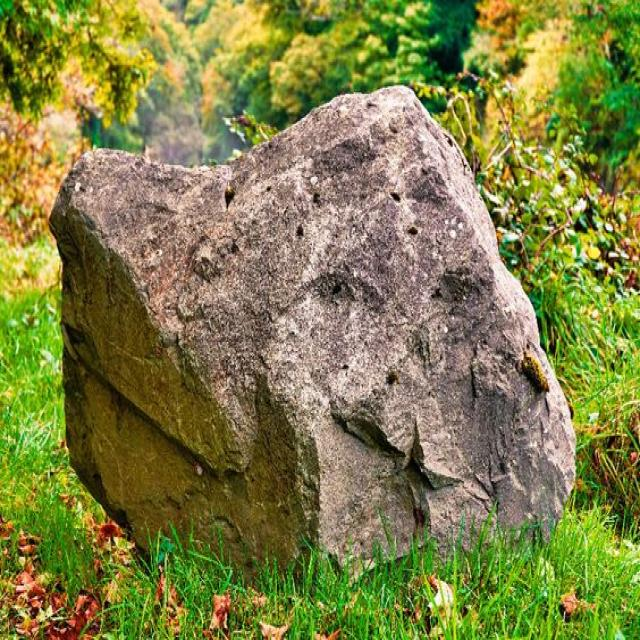grass: (0, 241, 639, 638)
rocks: (49, 88, 574, 572)
